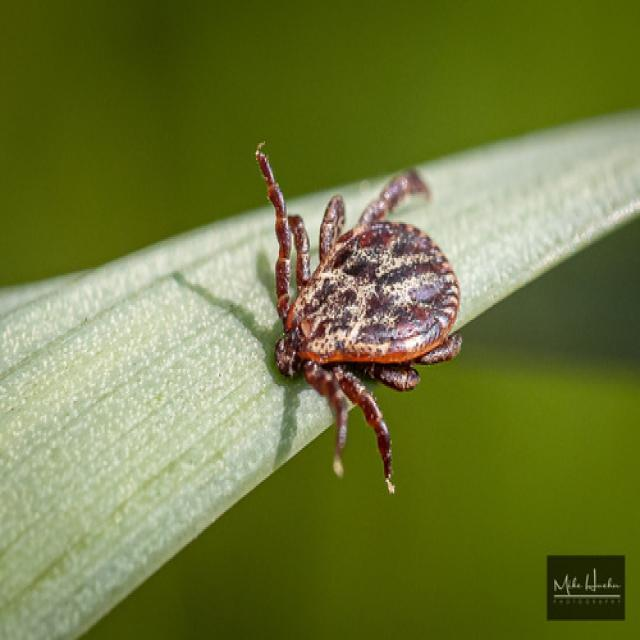Dermacentor Reticulatus-M: (260, 160, 462, 491)
